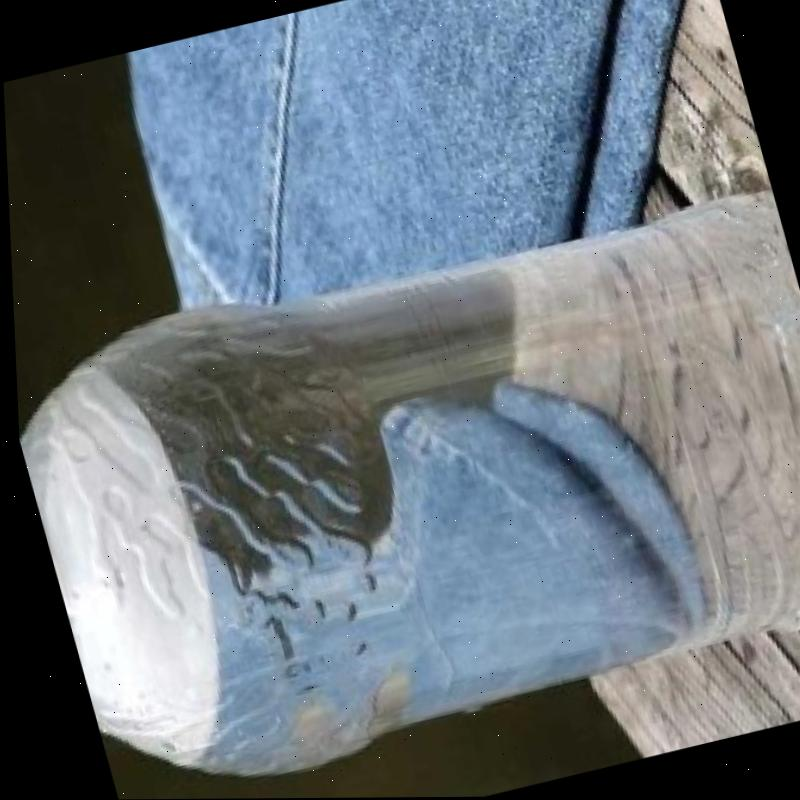botella: (6, 161, 800, 800)
